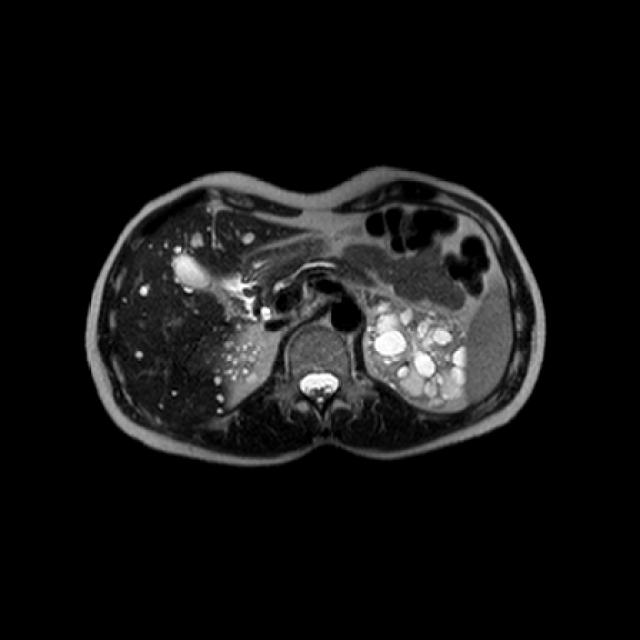sag: (218, 331, 263, 384)
sol: (366, 295, 469, 407)
